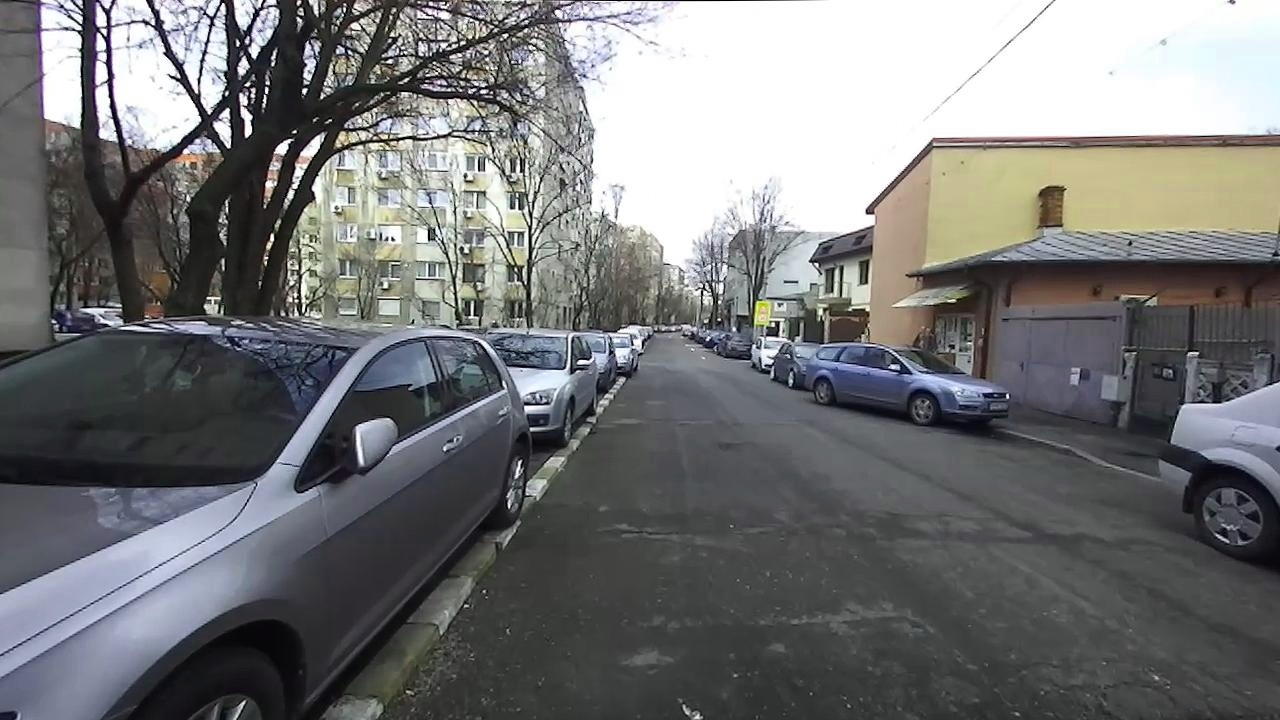pothole: (605, 519, 692, 549)
